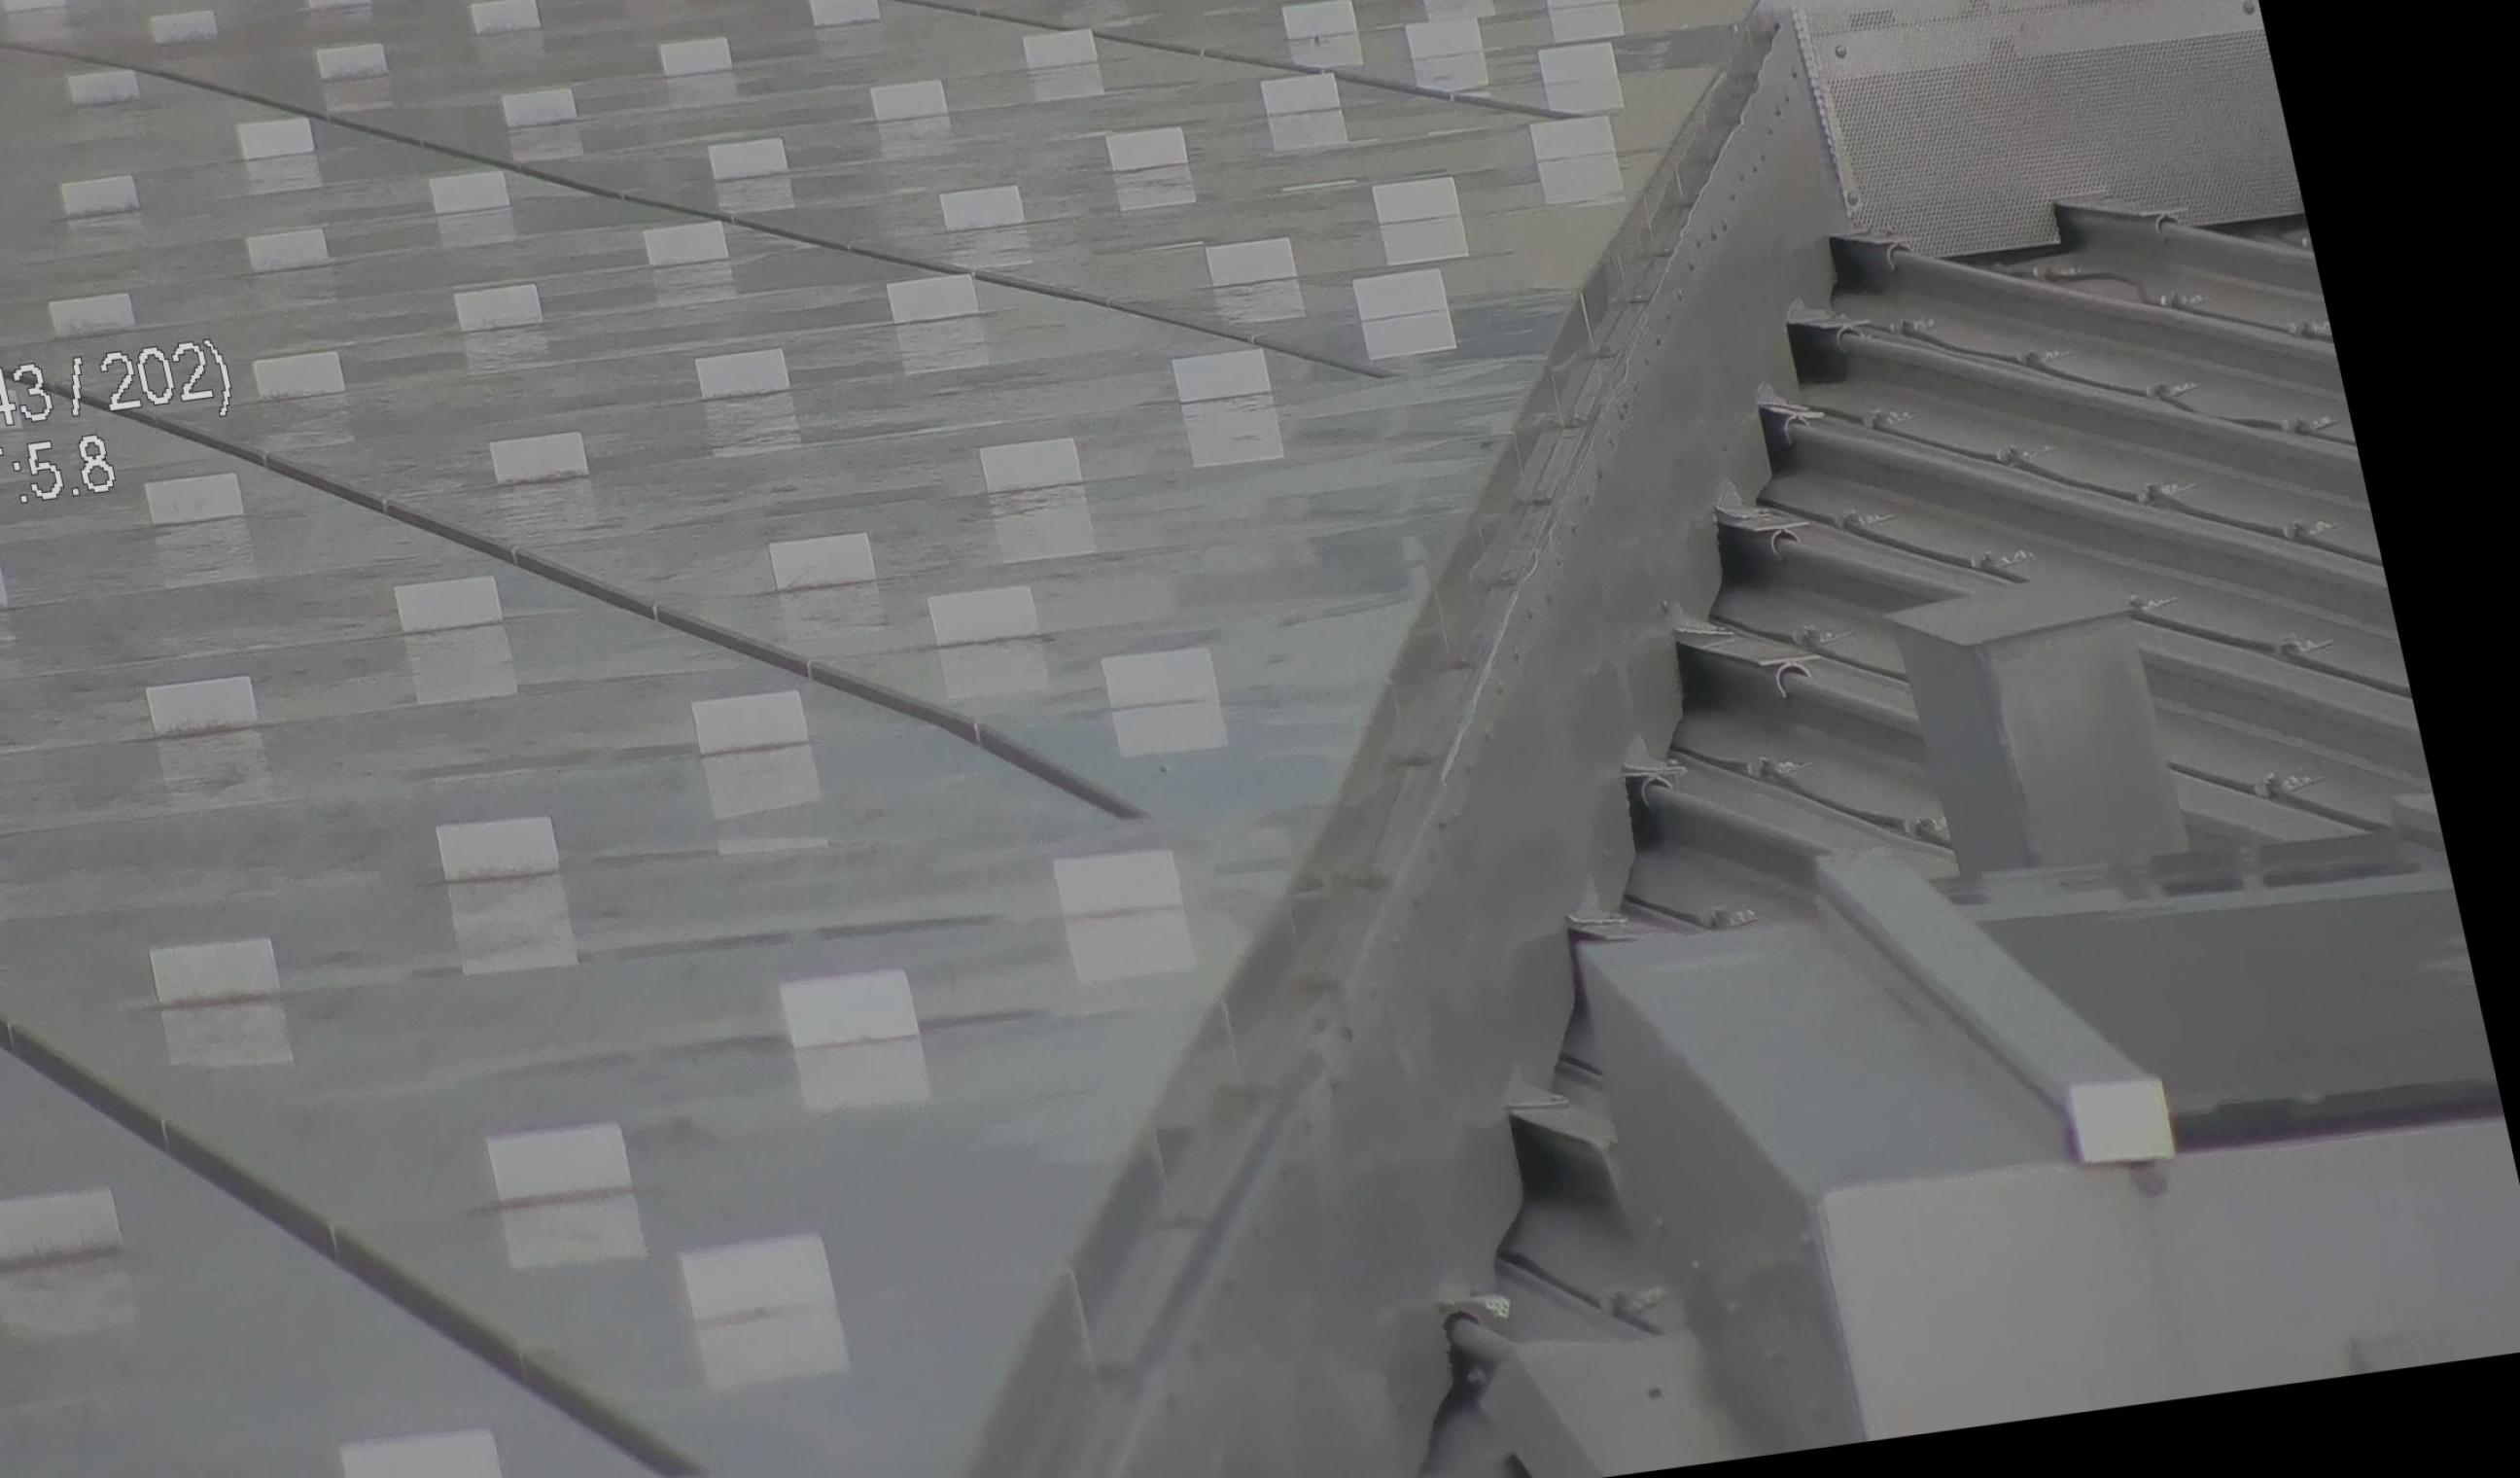Other: (1384, 1262, 1567, 1478)
